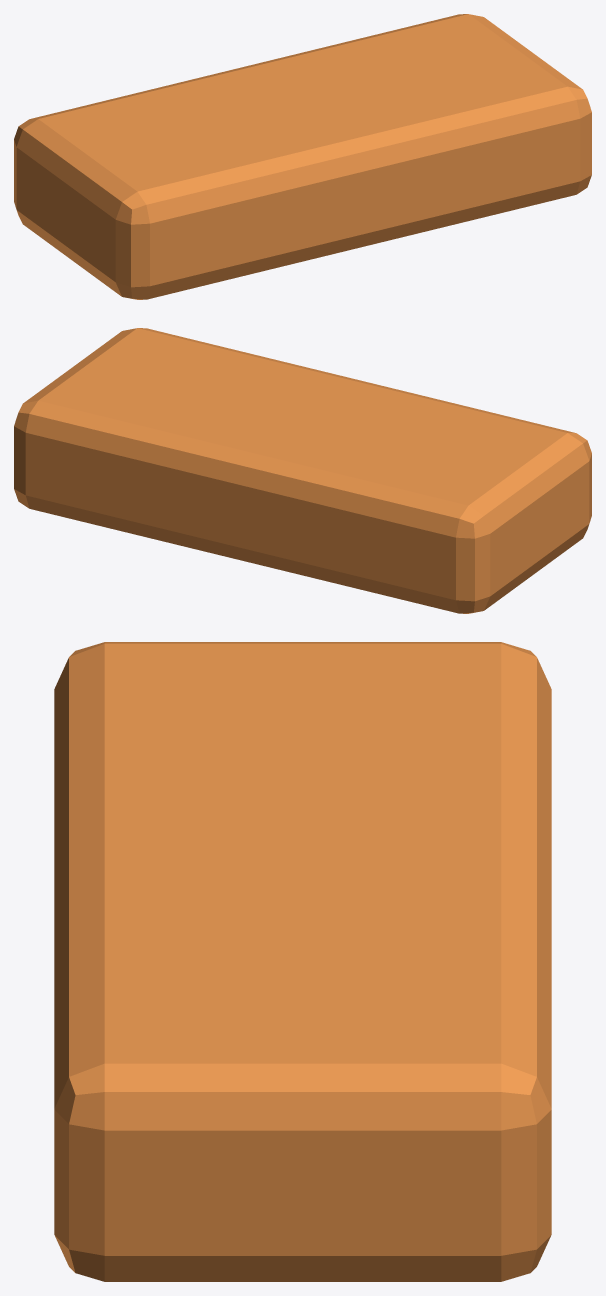
Rendered from RockBlock.fbx.
3 renders of one model, top to bottom at view 1: azimuth 30°, elevation 25°; view 2: azimuth 150°, elevation 25°; view 3: azimuth 270°, elevation 25°, orthographic. The views are drawn at different scales.
Visible parts, largest first — view 1: Cube; view 2: Cube; view 3: Cube.
Boxes of the visible parts, x1,y1,x2,y2 form: Cube: (14,14,591,299); Cube: (14,328,591,613); Cube: (54,642,551,1281).
Size of the model in its own units: 0.3168 by 0.0692 by 0.144.
